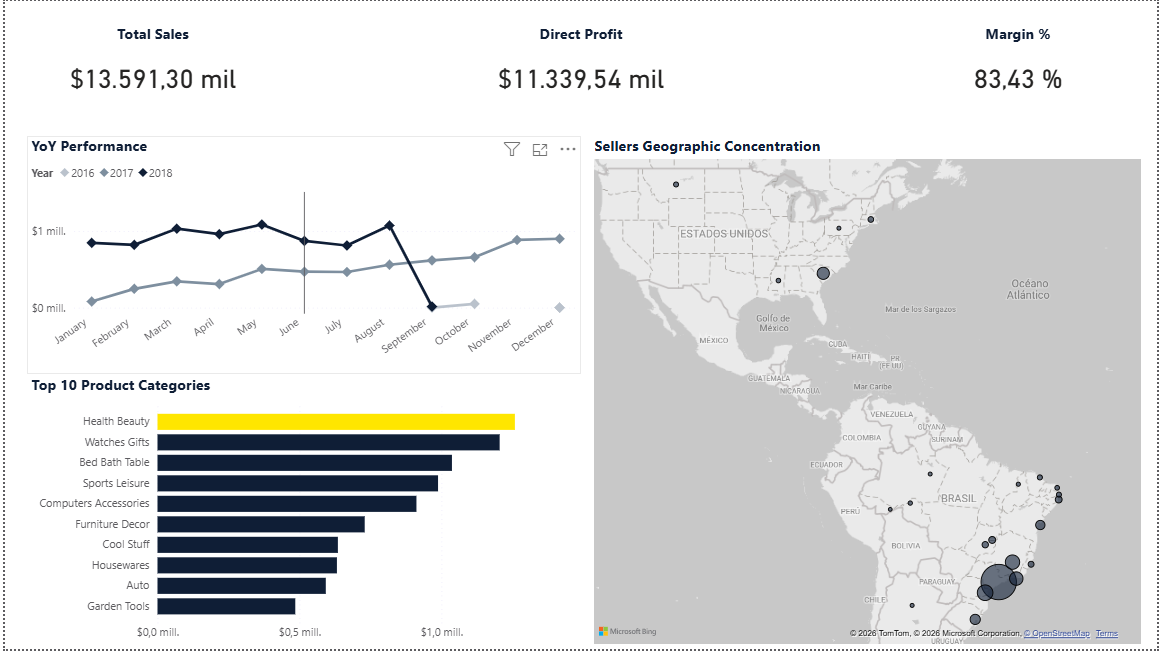

What the dashboard file says about the page in this screenshot:
{"tool":"tableau","page":{"name":"Executive Overview","canvas":[1000,800],"ordinal":0},"visuals":[{"type":"worksheet","title":"EO - Direct Profit","mark":"Automatic","box":[8,8,465,108]},{"type":"worksheet","title":"EO - Top 10 Product Categories","mark":"Automatic","rows":["Calculation_0759790230265864"],"cols":["Calculation_0759790200111104"],"box":[473,8,519,347]},{"type":"worksheet","title":"EO - Total Sales","mark":"Automatic","box":[8,116,465,109.5]},{"type":"worksheet","title":"EO - Margin %","mark":"Automatic","box":[8,225.5,465,88.5]},{"type":"worksheet","title":"EO - YoY Performance","mark":"Line","rows":["Calculation_0759790200111104","Calculation_0759790200111104"],"cols":["month_name"],"box":[8,314,465,332]},{"type":"worksheet","title":"EO - Sellers Geographic Concentration","mark":"Automatic","box":[473,355,519,437]},{"type":"legend","title":"EO - YoY Performance","param":"[federated.1a14ehx1jjl8hb1fiuvrp1sfld17].[none:year:ok]","box":[8,646,465,146]}]}

Visuals, with their boxes on the page's 1000x800 design canvas (x1, y1, x2, y2). These are canvas units, not pixel positions in the 1167x651 screenshot, which may show the page scaled, cropped or inside an application window:
"EO - Direct Profit" worksheet: <region>8, 8, 473, 116</region>
"EO - Top 10 Product Categories" worksheet: <region>473, 8, 992, 355</region>
"EO - Total Sales" worksheet: <region>8, 116, 473, 226</region>
"EO - Margin %" worksheet: <region>8, 226, 473, 314</region>
"EO - YoY Performance" worksheet (Line marks): <region>8, 314, 473, 646</region>
"EO - Sellers Geographic Concentration" worksheet: <region>473, 355, 992, 792</region>
"EO - YoY Performance" legend: <region>8, 646, 473, 792</region>
